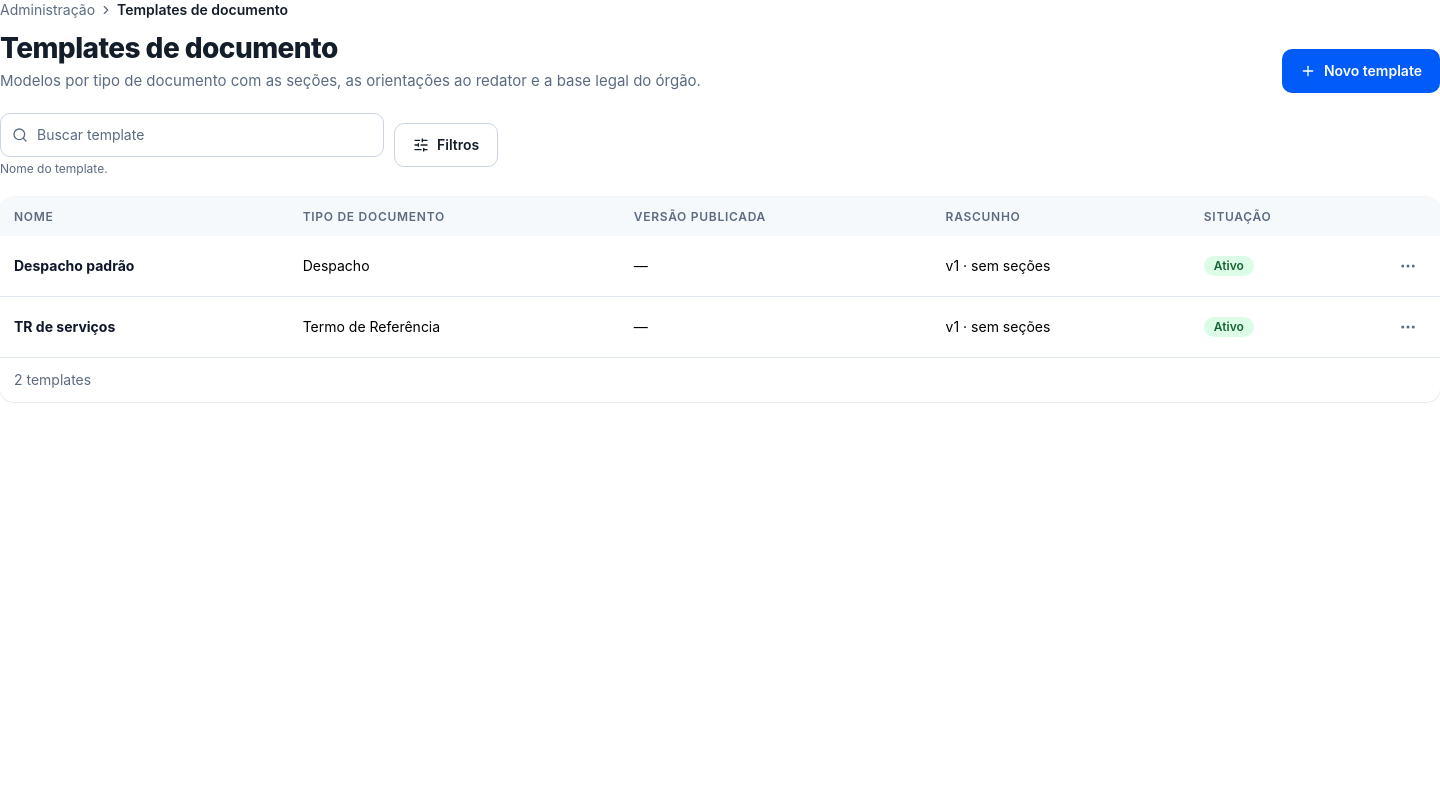
SCR-033 · lista de templates › filtra por nome e por tipo
Expected: the column heading "TR de serviços" is shown, x1=0 y1=297 x2=289 y2=357
Type "servicos" into the search field named "Buscar por nome".
click(192, 135); type("servicos")  # box x1=0 y1=113 x2=384 y2=157
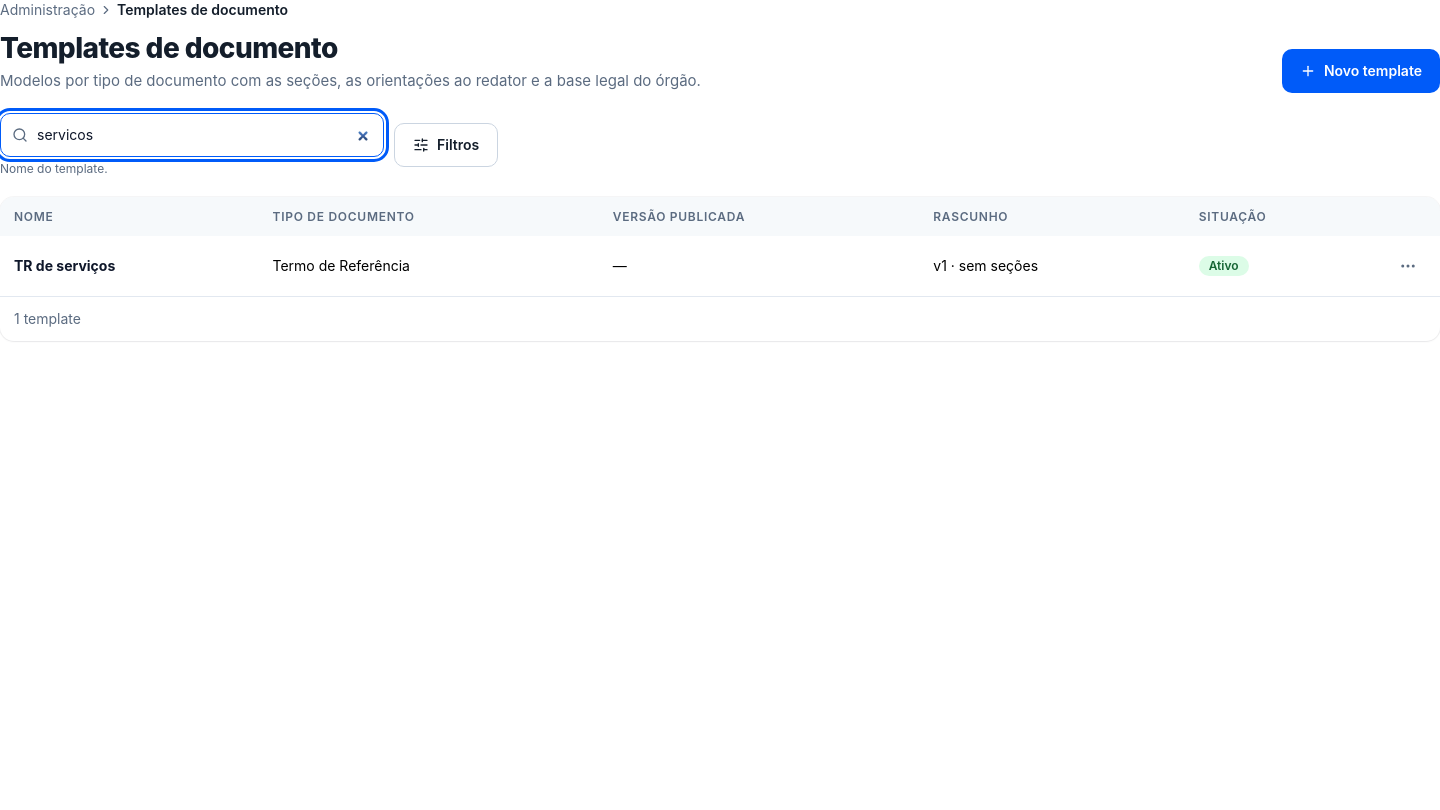
Result: the link "Despacho padrão" is gone
Clear the search field named "Buscar por nome" at (192, 135), box x1=0 y1=113 x2=384 y2=157
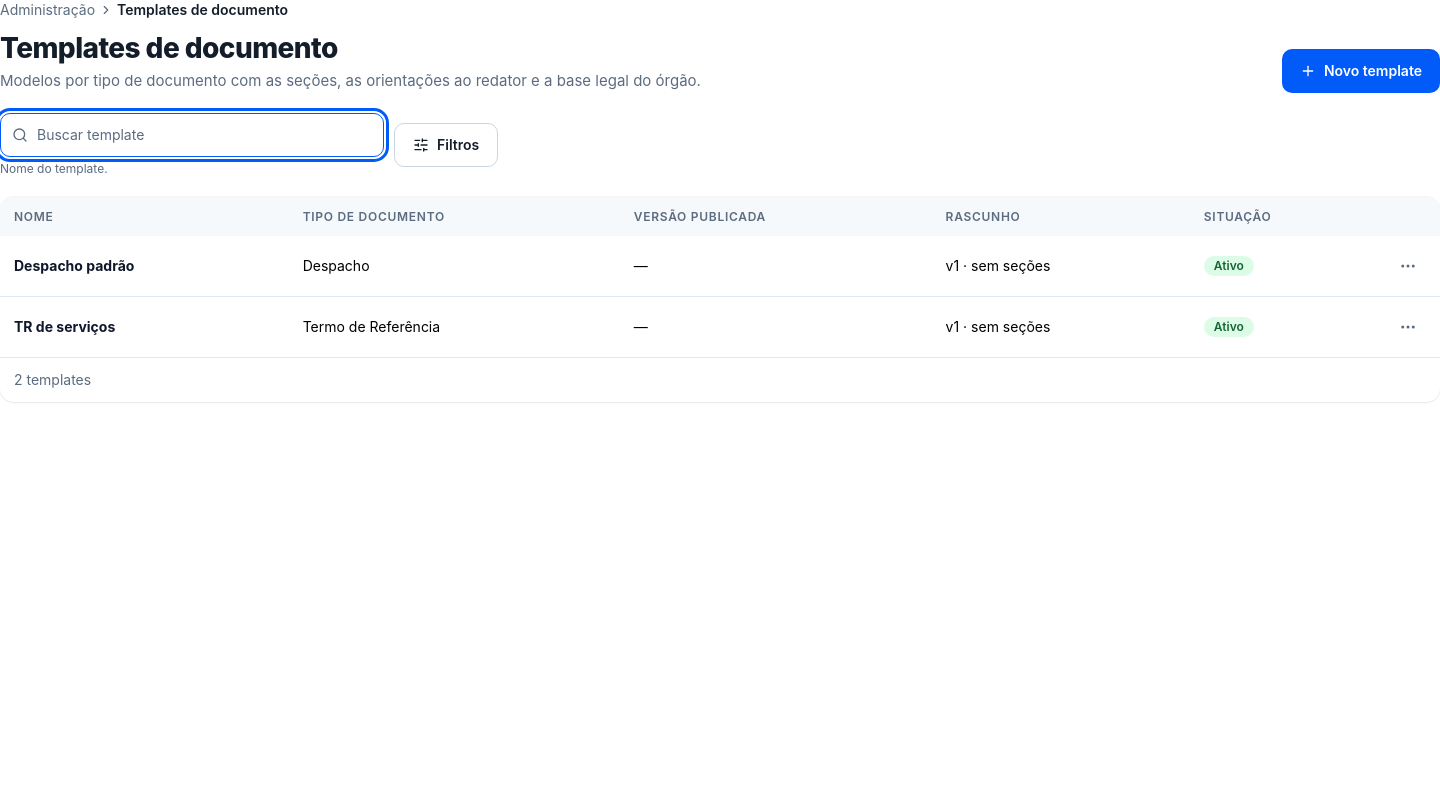
Click the button "Filtros".
click(446, 145)  # box x1=394 y1=123 x2=498 y2=167
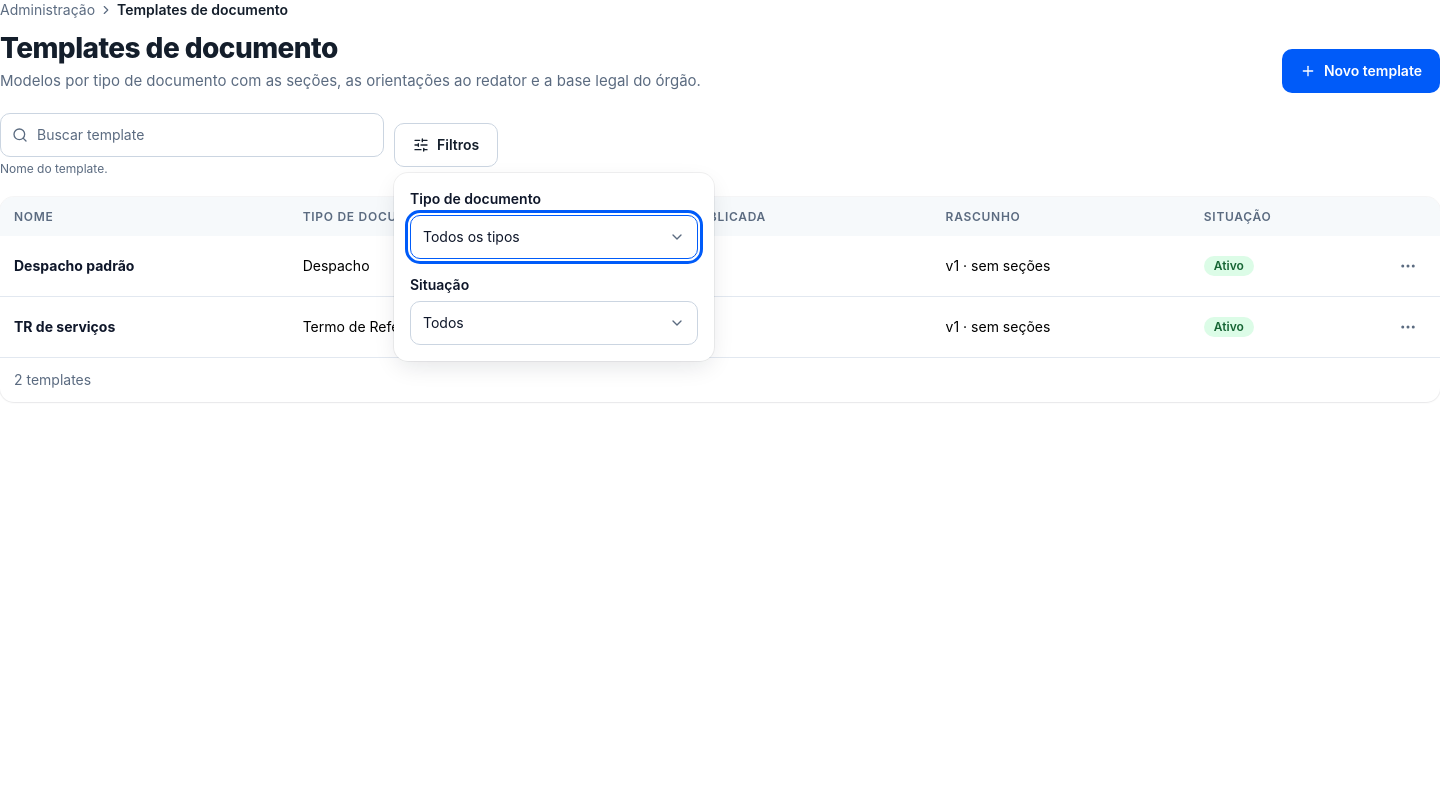
Click the dropdown named "Tipo de documento".
click(471, 236)  # box x1=410 y1=215 x2=698 y2=259
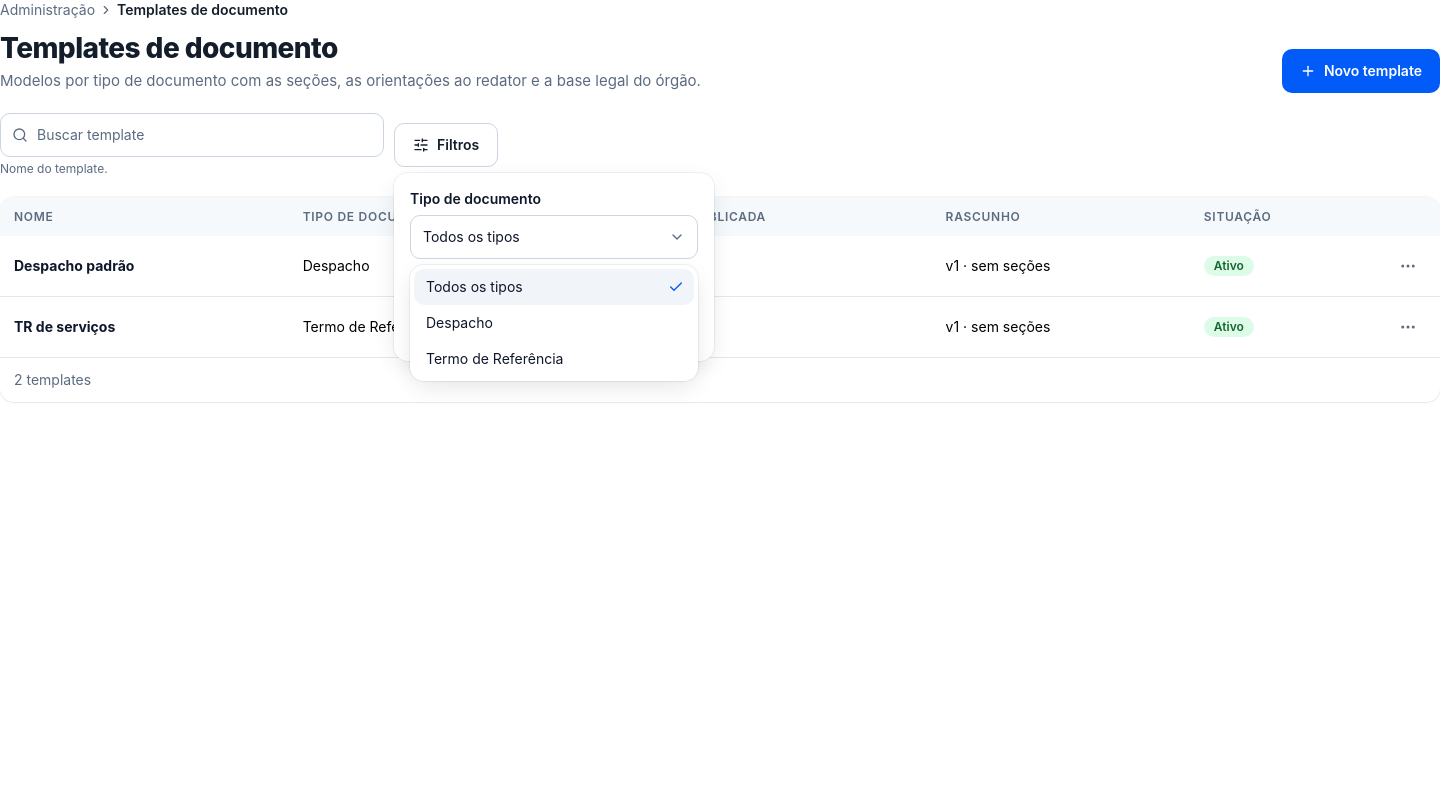
Click the option "Despacho".
click(459, 322)  # box x1=426 y1=314 x2=493 y2=331
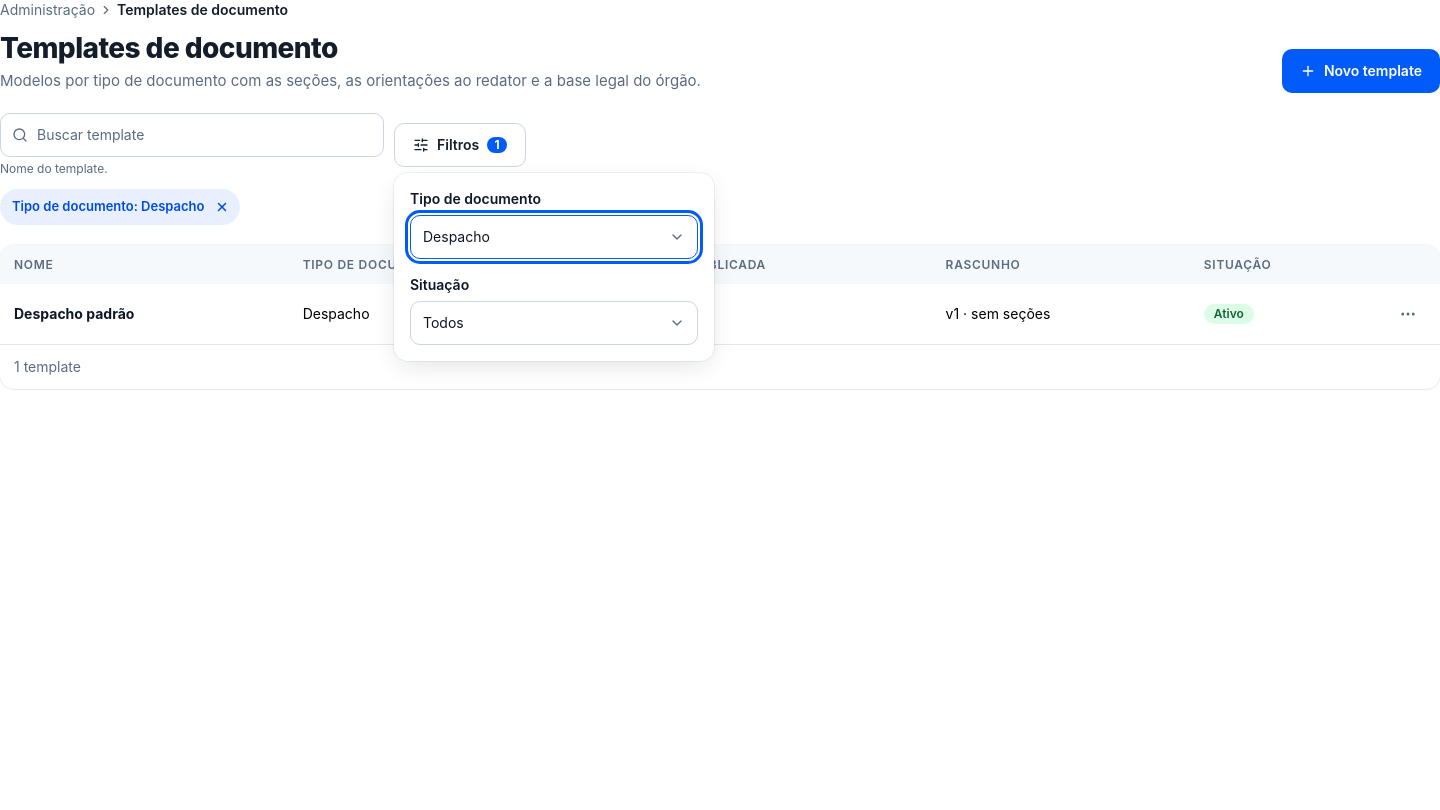
Result: the column heading "Despacho padrão" is shown at x1=0 y1=284 x2=289 y2=344
Result: the link "TR de serviços" is gone
Result: the button named "Remover o filtro Tipo de documento: Despacho" is shown at x1=210 y1=195 x2=234 y2=219
